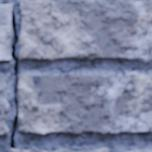brick: (19, 72, 151, 134), (18, 0, 151, 61), (0, 6, 11, 60), (0, 77, 9, 134), (79, 148, 107, 151), (54, 149, 73, 151), (9, 150, 42, 151), (133, 150, 151, 151)
crack: (0, 2, 19, 149)
